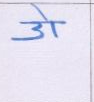o_matra: (42, 11, 61, 38)
